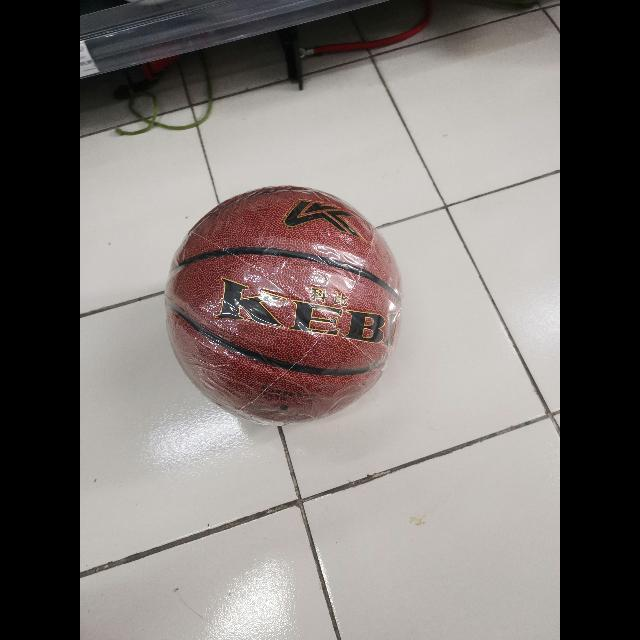basketball: (170, 187, 398, 423)
